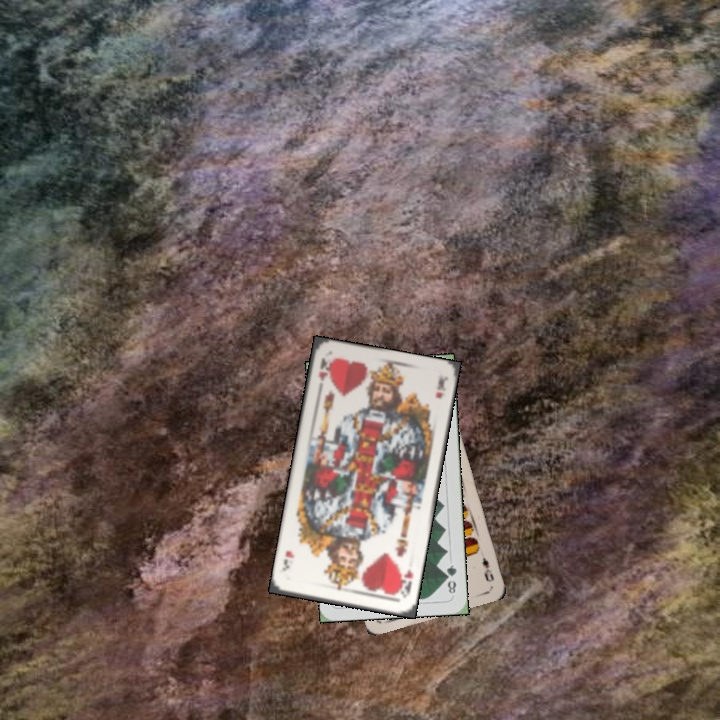E9: (478, 553, 497, 585)
G8: (442, 561, 459, 596)
HK: (314, 354, 333, 393), (394, 565, 415, 600)
